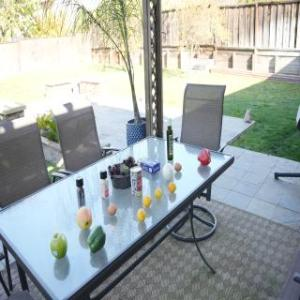bell_pepper: (86, 224, 106, 250), (74, 176, 88, 208), (197, 148, 213, 166)
egg: (107, 203, 118, 217), (174, 162, 182, 175)
onion: (161, 164, 175, 182)
